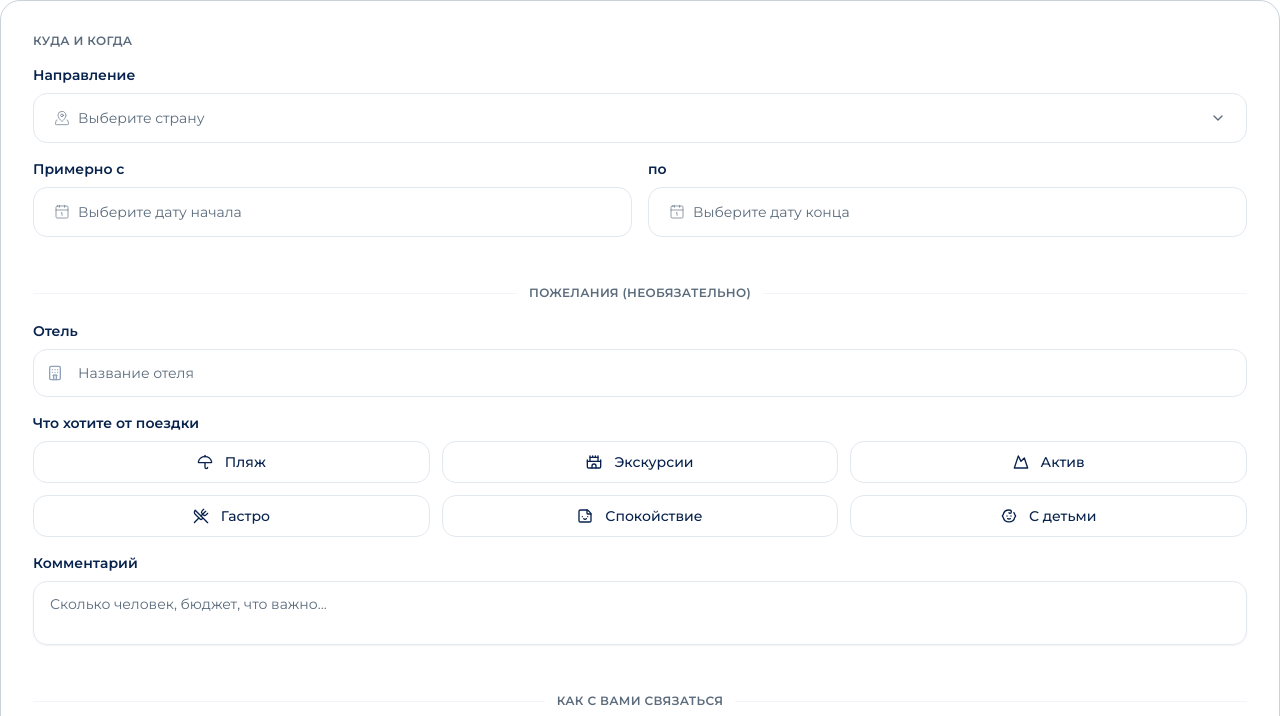
it: CustomTourForm › открывает селект направления и выбирает страну
This screenshot has width=1280, height=716.
What coordinates should you click on to do the following:
click the dropdown
I would click on:
 (141, 118)
Its box is [33,93,1247,143].
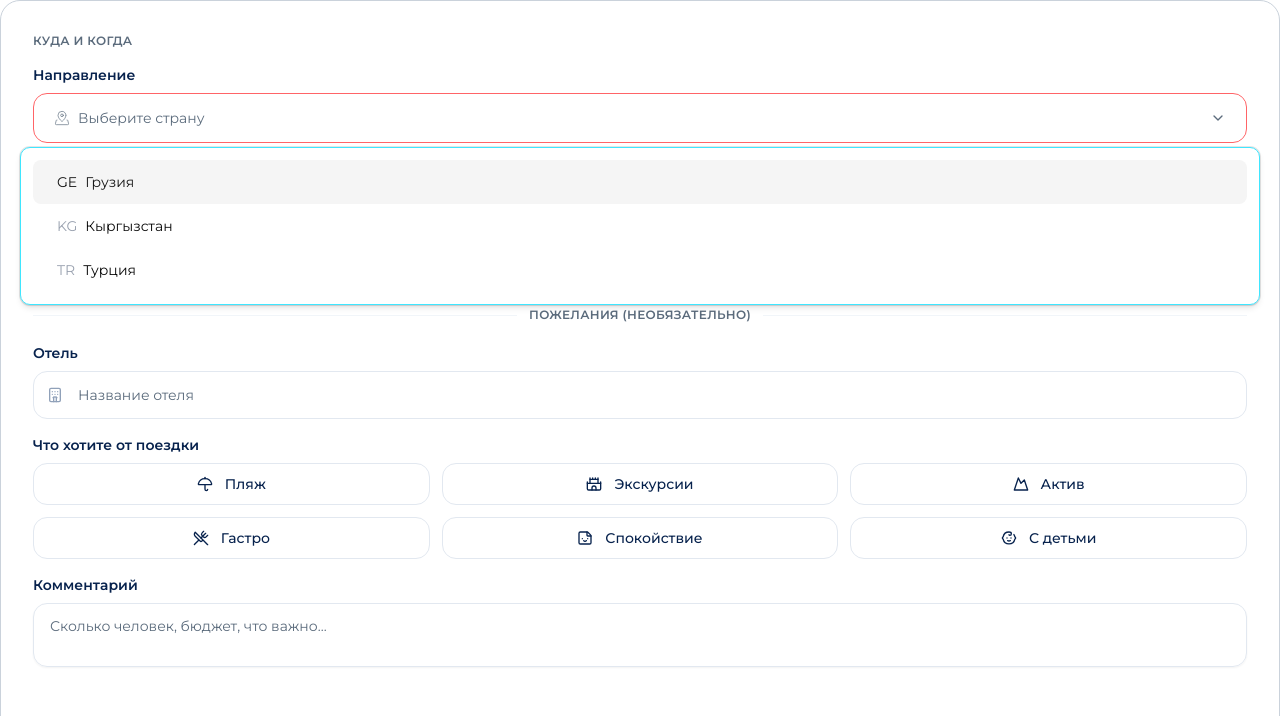
What coordinates should you click on to do the following:
click the text "Кыргызстан"
I would click on:
 (129, 226)
Its box is [85,216,173,236].
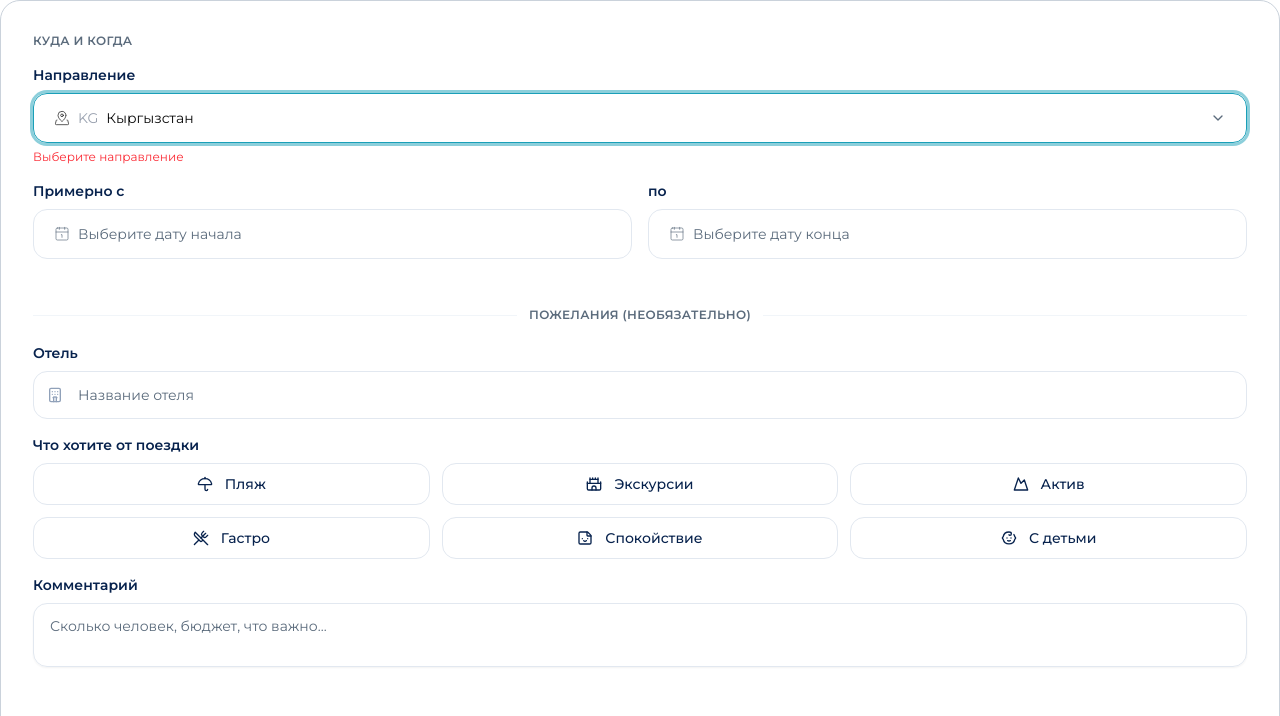
expect the dropdown shows "Кыргызстан": met, box [33,93,1247,143]
